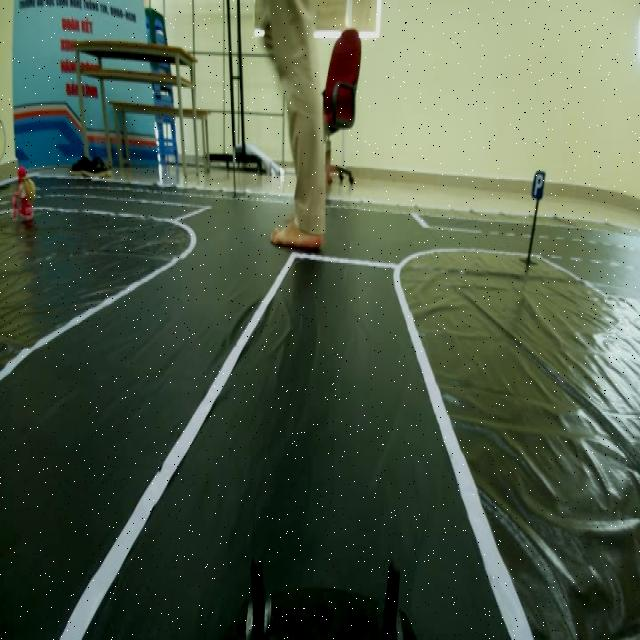parking: (526, 166, 547, 203)
